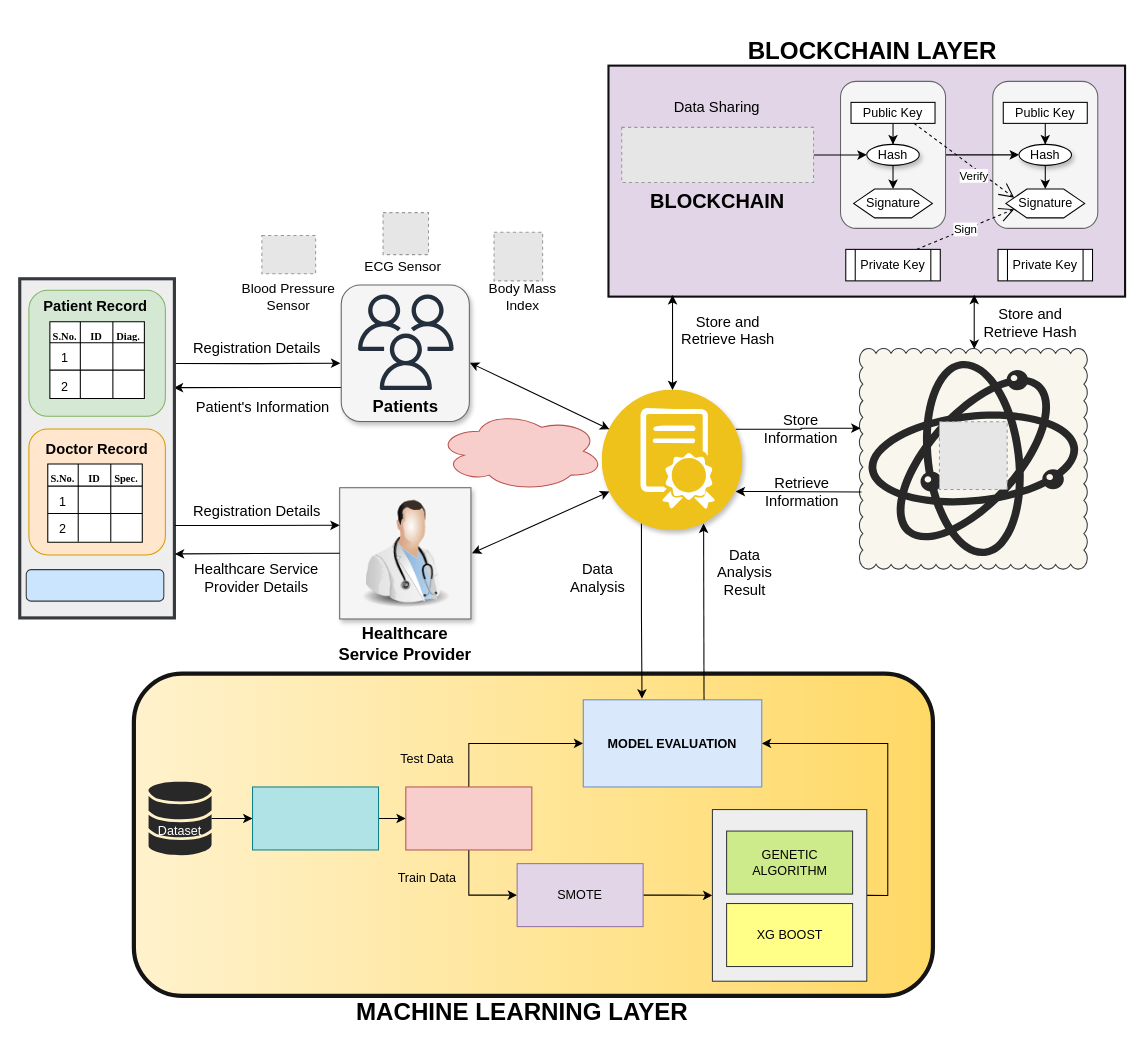
Some shapes in this 1145 by 1061 pixel diagram are drawn without their labels. Grey dashed boxes stand in for pictures. Here are the shapes that lost their labels. From the top down, the centre of each, then its label:
At (520,450): "Store and Retrieve Information".
At (94,585): "Registration Authority".
At (315,818): "PREPROCESSOR".
At (468,818): "SPLIT DATA".
